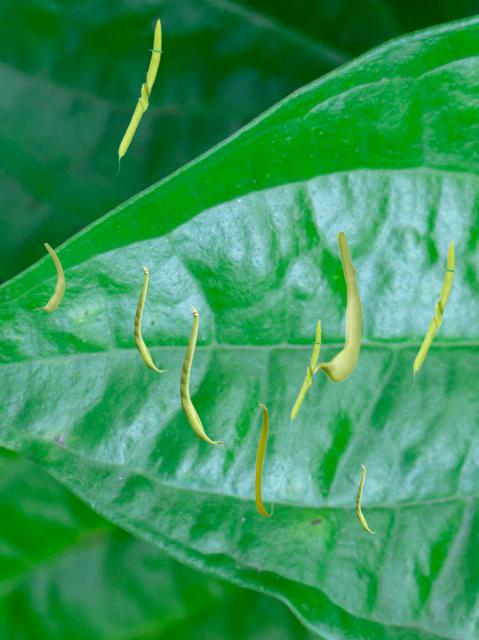french_bean: (116, 16, 162, 174), (313, 230, 361, 381), (411, 237, 455, 388), (180, 305, 222, 443), (289, 318, 321, 431), (134, 265, 166, 371), (33, 242, 64, 310), (254, 403, 272, 516), (356, 464, 376, 532)
